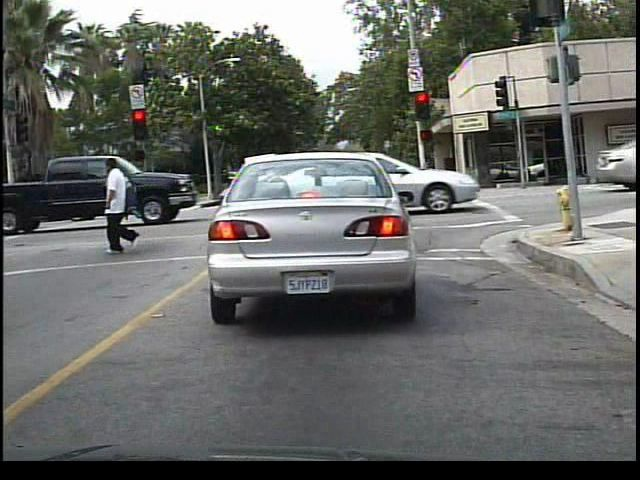person: (98, 153, 150, 254)
